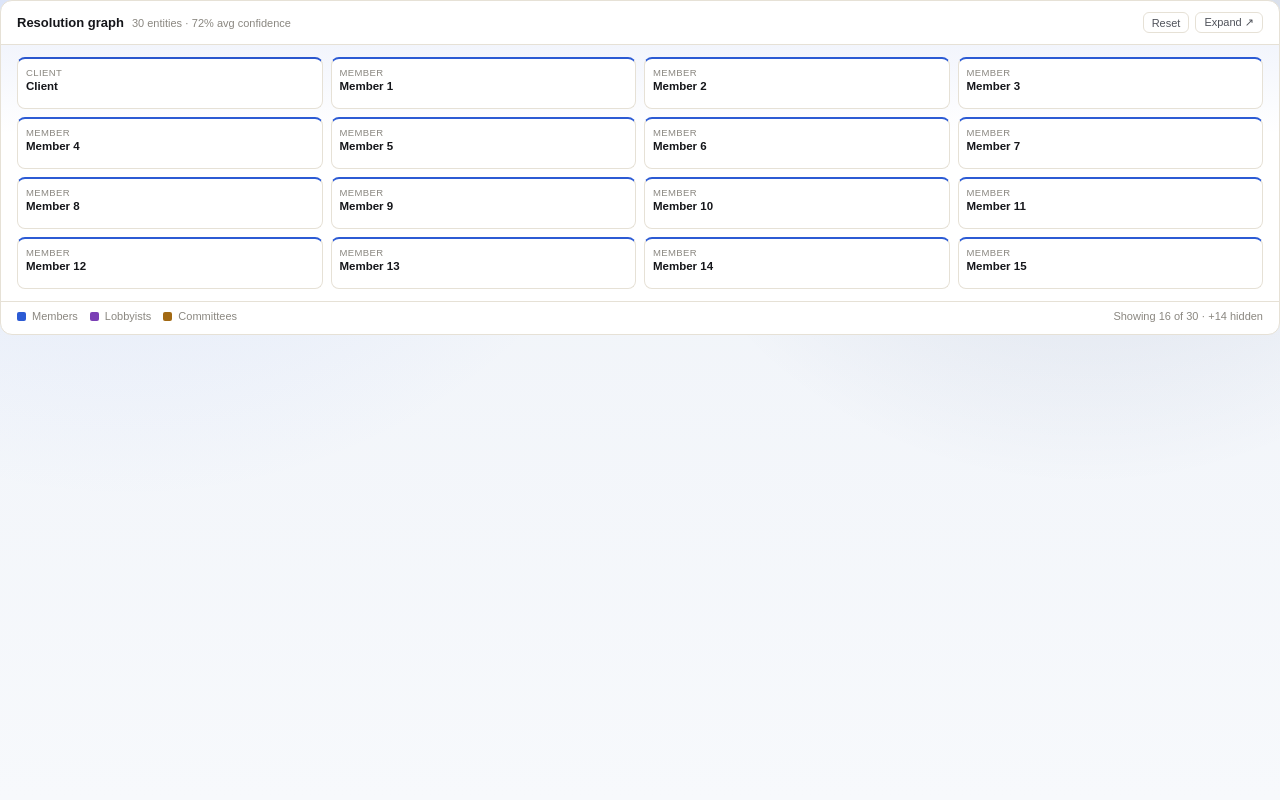
ResolutionGraphCard controls › expand toggles to collapse and reset clears focus/expanded state
The image size is (1280, 800).
Click the button "Expand ↗". click: point(1229, 22)
box: [1195,12,1263,33]
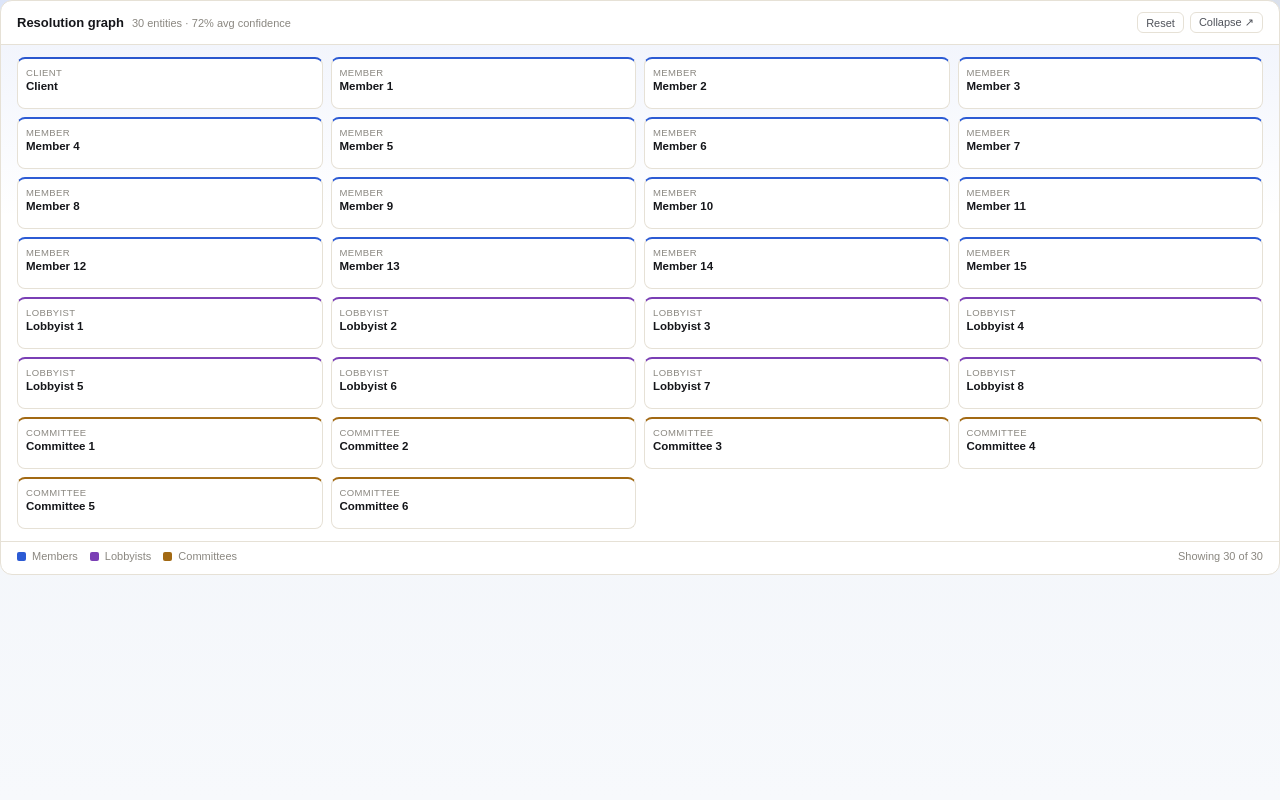
Expected: the button "Collapse ↗" is shown, [1190,12,1263,33]
Click the button "Member Member 1". click: point(361, 72)
box: [330,57,636,109]
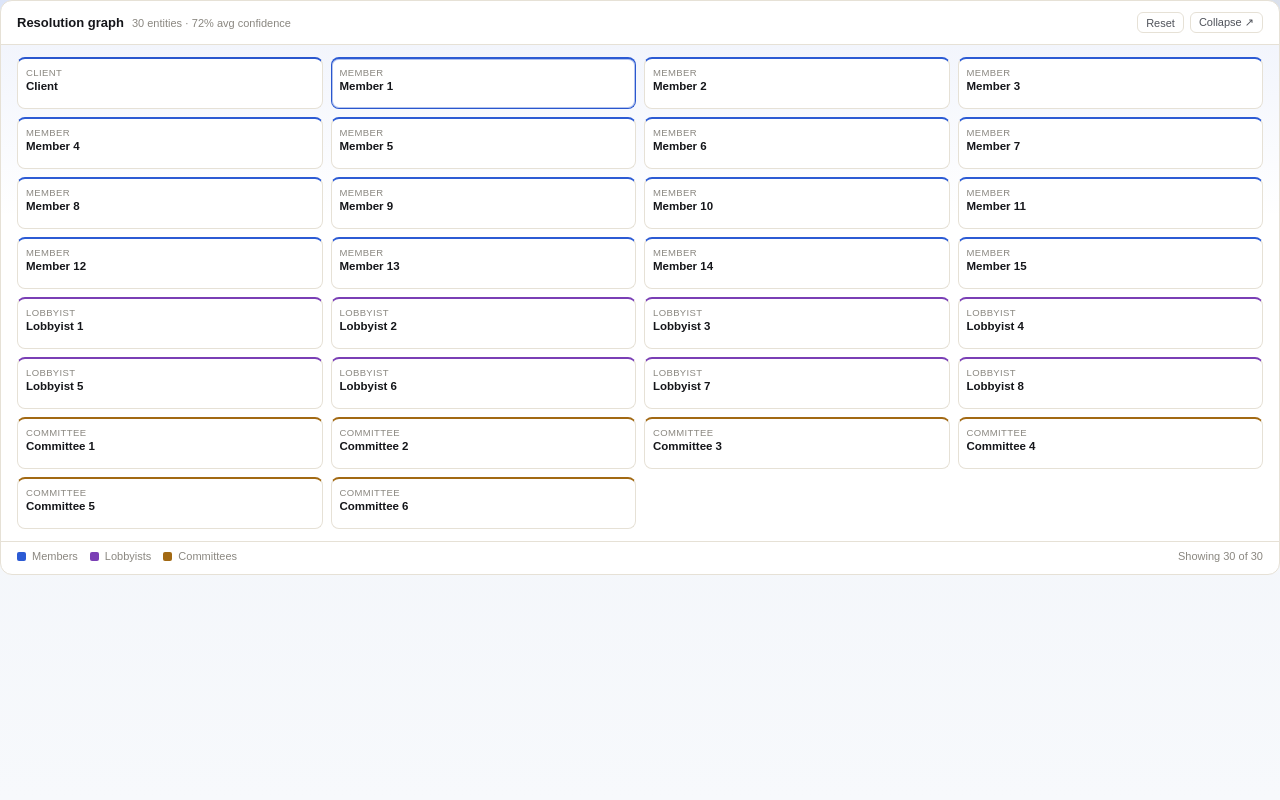
Click the button "Reset". click: point(1161, 22)
box: [1137,12,1184,33]
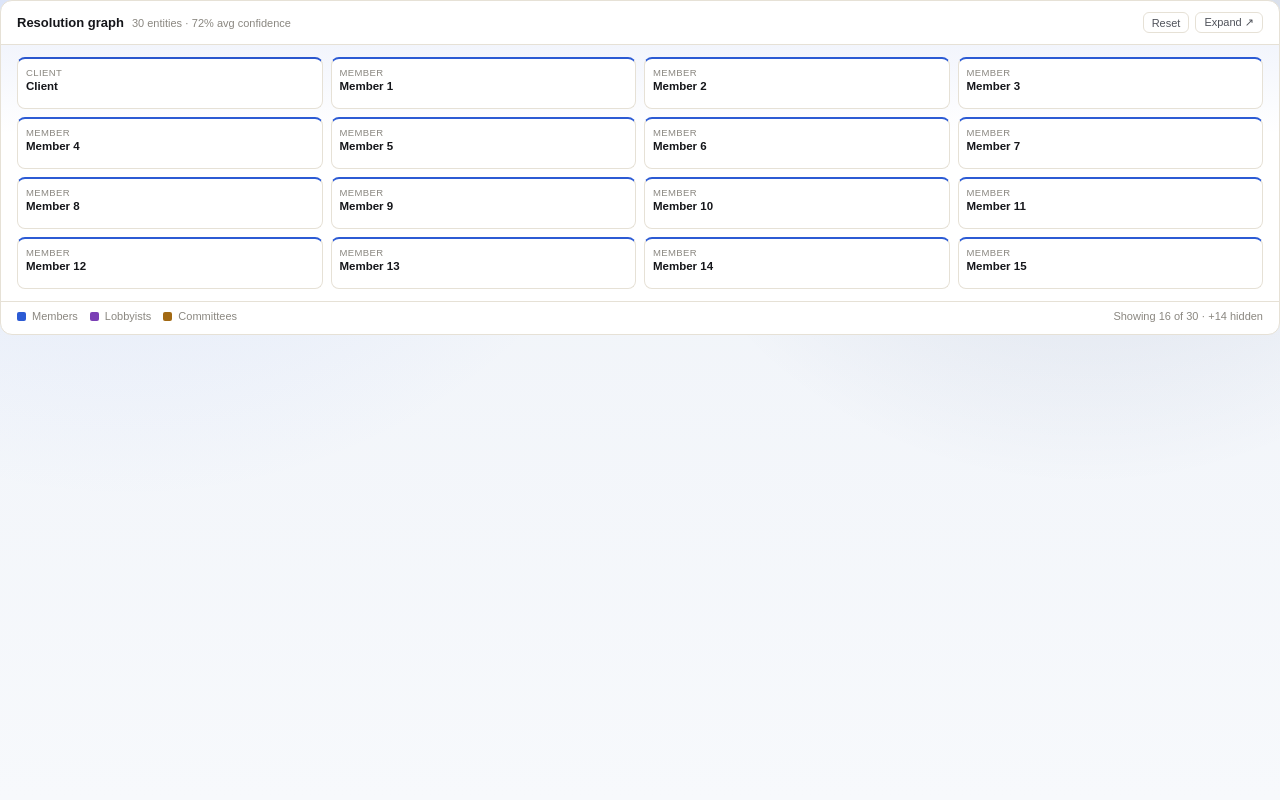
Expected: the button "Expand ↗" is shown, [1195,12,1263,33]
